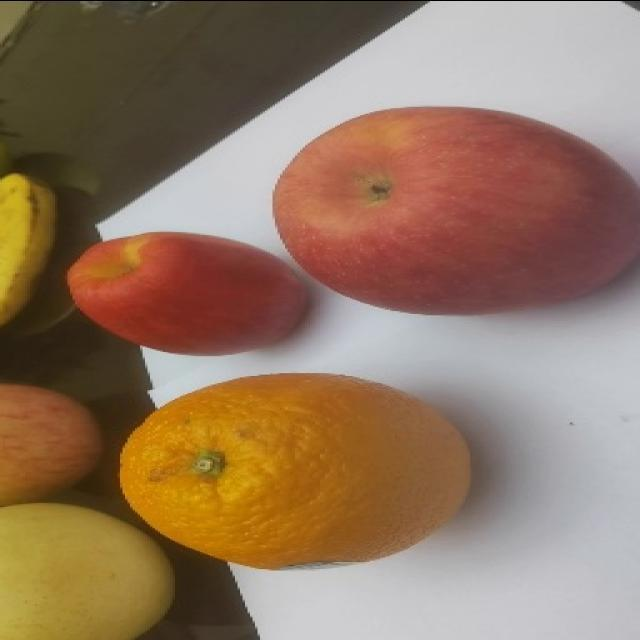Apple: (272, 105, 640, 311), (67, 226, 316, 356), (0, 376, 95, 504)
Banana: (0, 170, 60, 323)
Orange: (112, 371, 476, 569)
